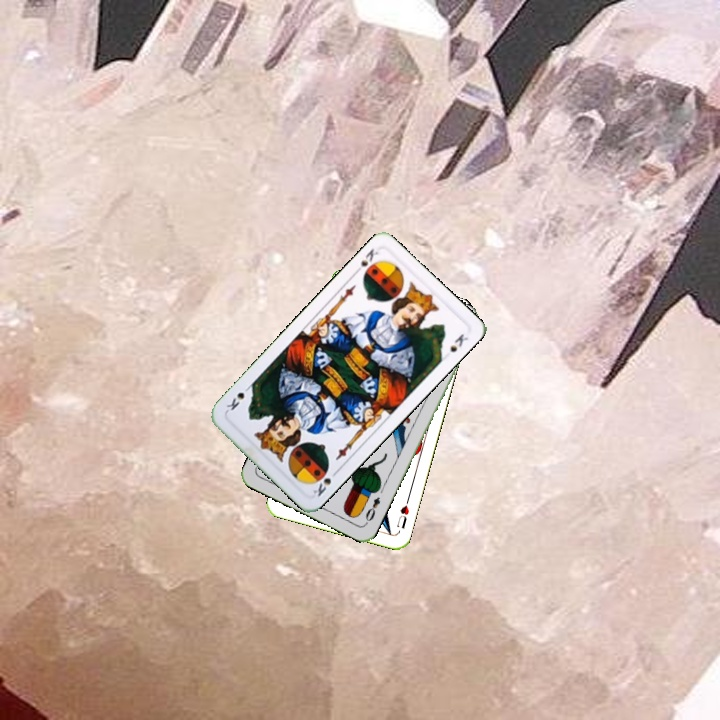EO: (361, 493, 383, 527)
HU: (393, 494, 412, 531)
SK: (309, 466, 341, 499), (351, 244, 381, 277)
